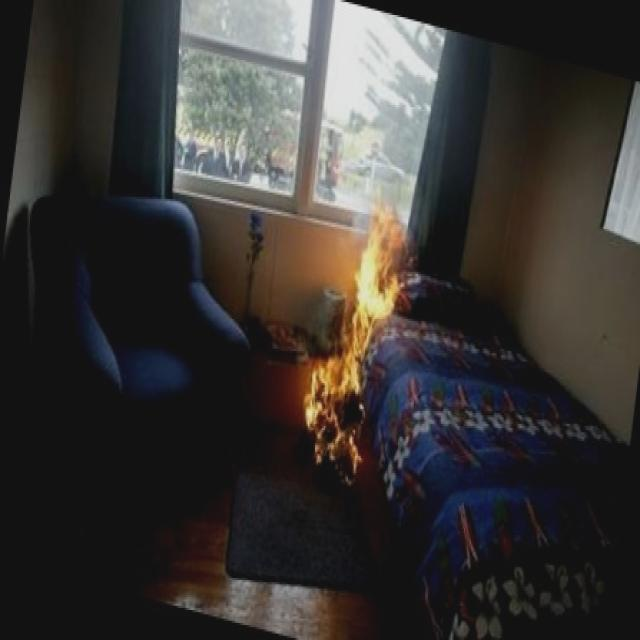fire: (284, 159, 433, 506)
